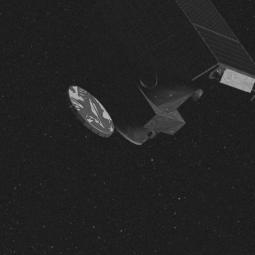cheops: (76, 3, 255, 152)
